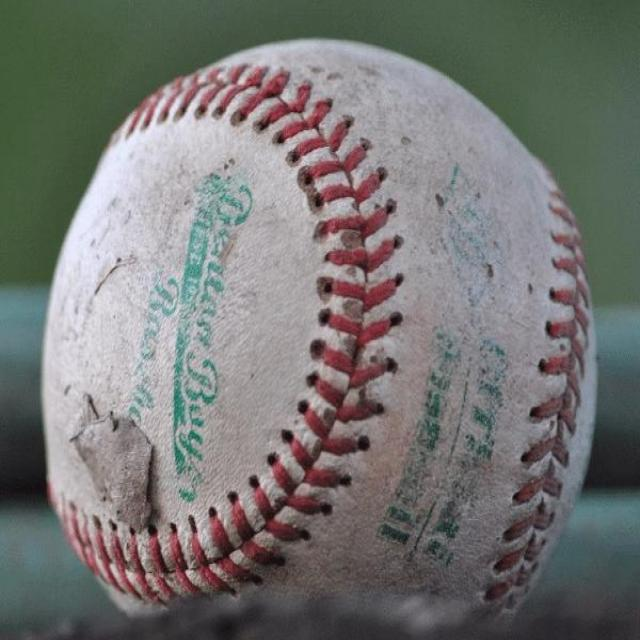baseball: (41, 34, 598, 618)
